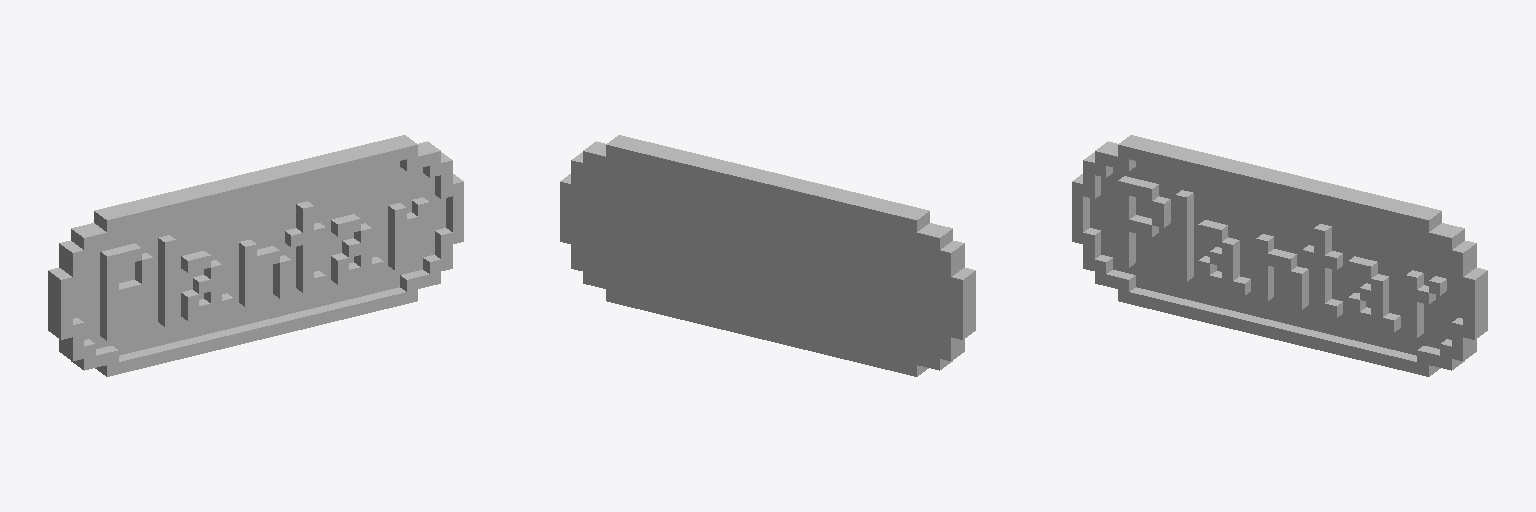
The model's file is 5_1 plantar.obj.
The picture shows the model from 3 angles: view 1: azimuth 30°, elevation 25°; view 2: azimuth 150°, elevation 25°; view 3: azimuth 330°, elevation 25°; orthographic projection.
Parts seen in each view (by area): view 1: object 1; view 2: object 1; view 3: object 1.
Boxes of the visible parts, x1,y1,x2,y2 form: object 1: [48, 135, 463, 376]; object 1: [560, 135, 975, 376]; object 1: [1072, 135, 1487, 376].
Size of the model in its own units: 3.5 by 1.3 by 0.2.